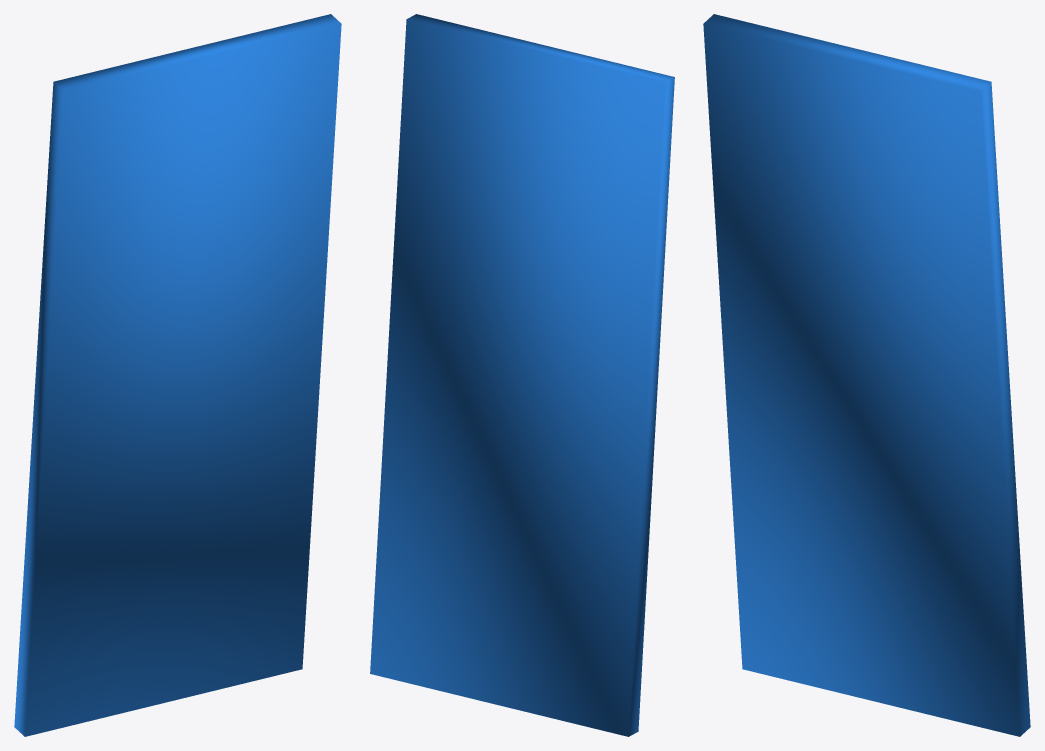
The model's file is Rear_License_Plate_Euro_Badge.glb.
3 renders of one model, left to right at view 1: azimuth 30°, elevation 25°; view 2: azimuth 150°, elevation 25°; view 3: azimuth 330°, elevation 25°, orthographic. The views are drawn at different scales.
Visible parts, largest first — view 1: Rear_License_Plate_Euro_Badge; view 2: Rear_License_Plate_Euro_Badge; view 3: Rear_License_Plate_Euro_Badge.
Boxes of the visible parts, bbox=[...] form: Rear_License_Plate_Euro_Badge: bbox=[14, 14, 341, 736]; Rear_License_Plate_Euro_Badge: bbox=[370, 14, 674, 736]; Rear_License_Plate_Euro_Badge: bbox=[703, 14, 1030, 736].
Bounding box in the file's own units: 0.045 × 0.1047 × 0.014.
